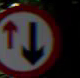Two way: (0, 4, 64, 72)
